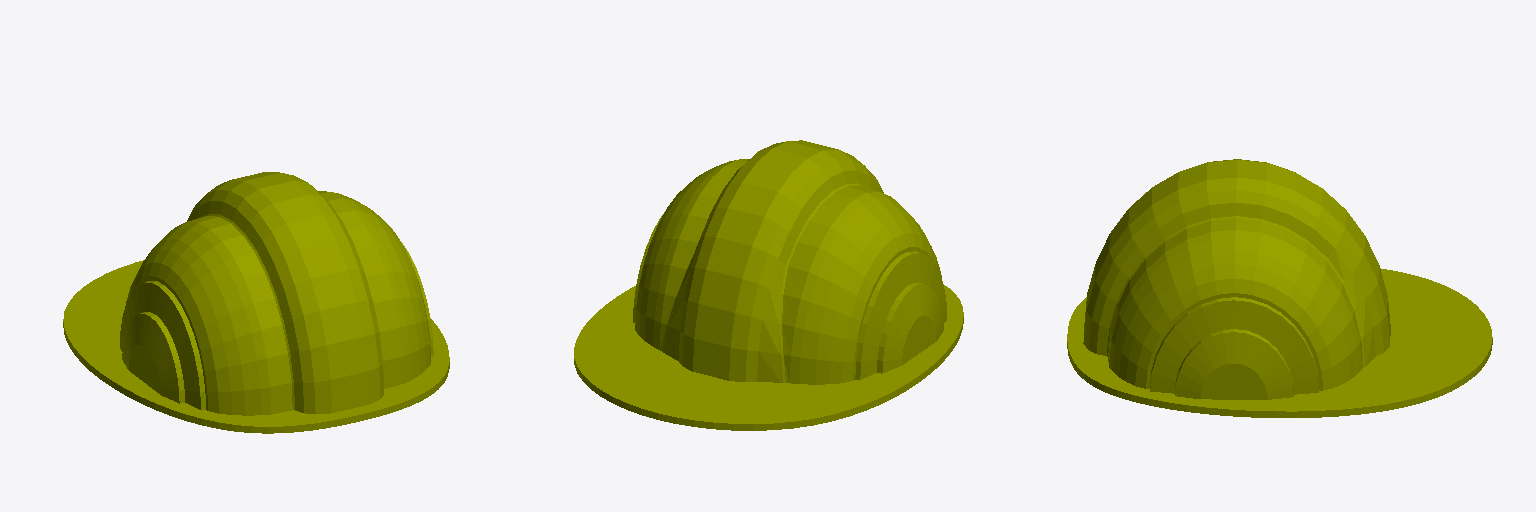
File: hardhat.obj
3 renders of one model, left to right at view 1: azimuth 30°, elevation 25°; view 2: azimuth 150°, elevation 25°; view 3: azimuth 270°, elevation 25°, orthographic.
Parts seen in each view (by area): view 1: Hat.001_Sphere.000; view 2: Hat.001_Sphere.000; view 3: Hat.001_Sphere.000.
Boxes of the visible parts, <box> form: Hat.001_Sphere.000: <box>63,172,449,433</box>; Hat.001_Sphere.000: <box>574,140,963,430</box>; Hat.001_Sphere.000: <box>1067,159,1492,417</box>.
Bounding box in the file's own units: 2.85 × 1.54 × 3.41.